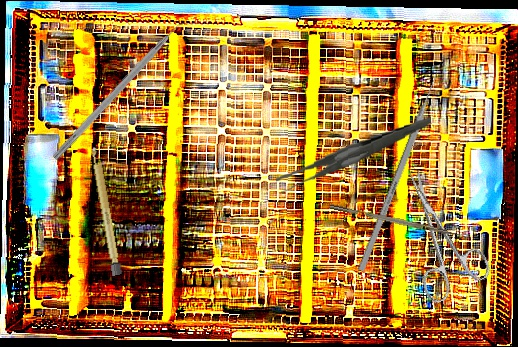Chopper: (51, 12, 199, 168), (329, 197, 470, 241)
Dressing Forceps: (271, 117, 437, 194)
Iris Scissors: (383, 158, 496, 306)
Pusher: (357, 61, 445, 273)
Scalpel Handle: (89, 146, 123, 276)
